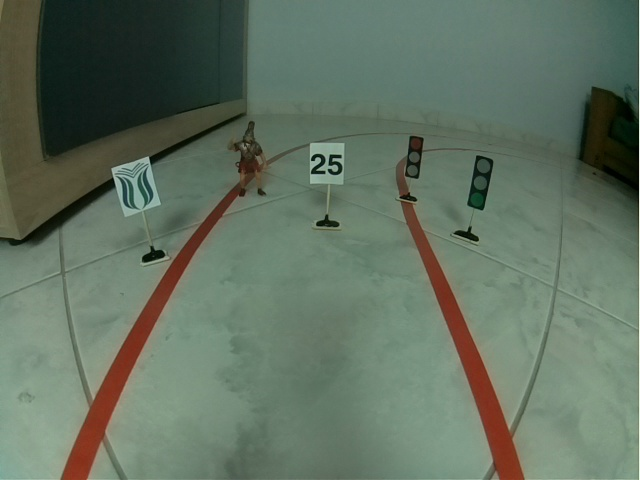Green Traffic Light: (467, 155, 494, 211)
Person: (227, 120, 272, 198)
Red Traffic Light: (405, 135, 424, 180)
Speed Limit 25: (310, 143, 345, 185)
Subu: (111, 156, 162, 218)
